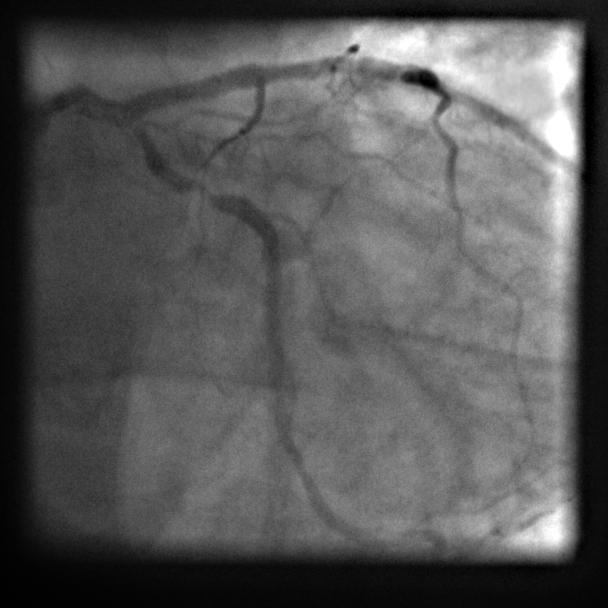Stenosis: (191, 176, 219, 206)
